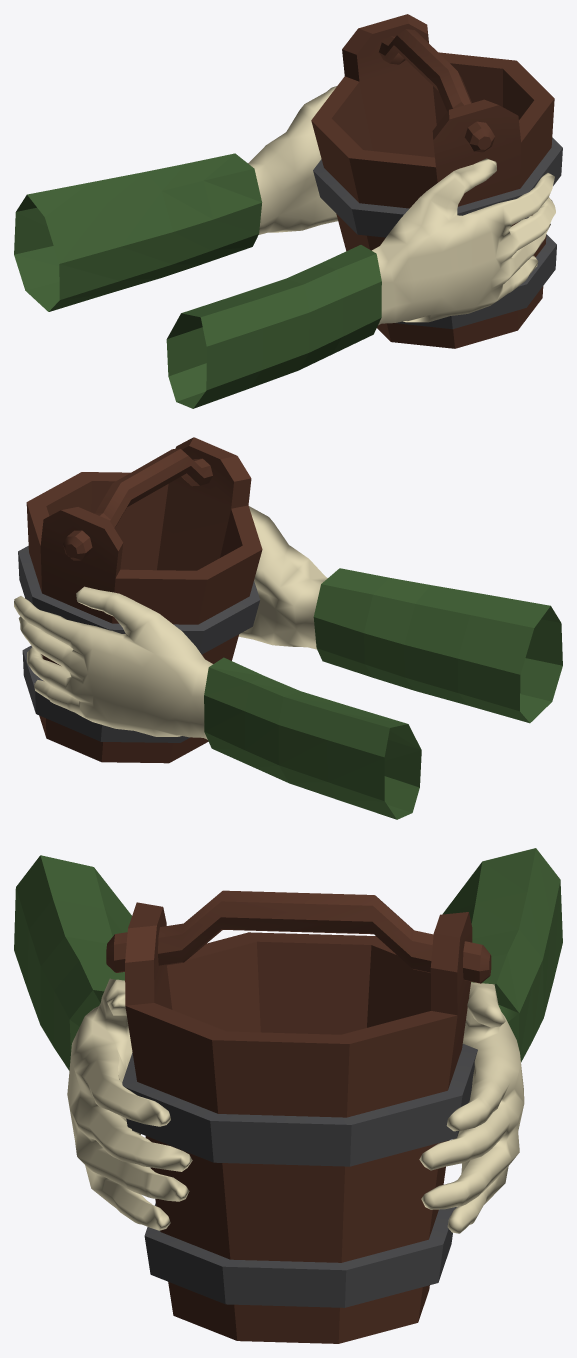
The model's file is EquipedEmptyBucket.fbx.
The picture shows the model from 3 angles, top to bottom: view 1: azimuth 30°, elevation 25°; view 2: azimuth 150°, elevation 25°; view 3: azimuth 270°, elevation 25°; orthographic projection. The views are drawn at different scales.
Visible parts, largest first — view 1: EquipedEmptyBucket; view 2: EquipedEmptyBucket; view 3: EquipedEmptyBucket.
Part boxes in pixels (x1=…): EquipedEmptyBucket: x1=14, y1=14, x2=562, y2=408; EquipedEmptyBucket: x1=14, y1=437, x2=562, y2=819; EquipedEmptyBucket: x1=14, y1=848, x2=562, y2=1343.
Bounding box in the file's own units: 1.89 × 1.12 × 1.38.
